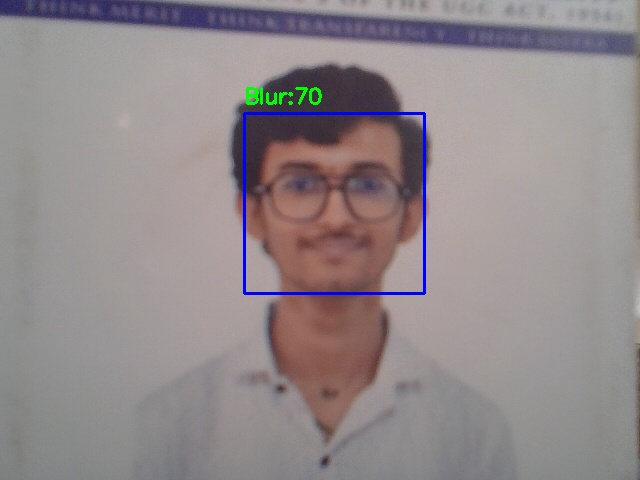fake: (244, 113, 424, 293)
